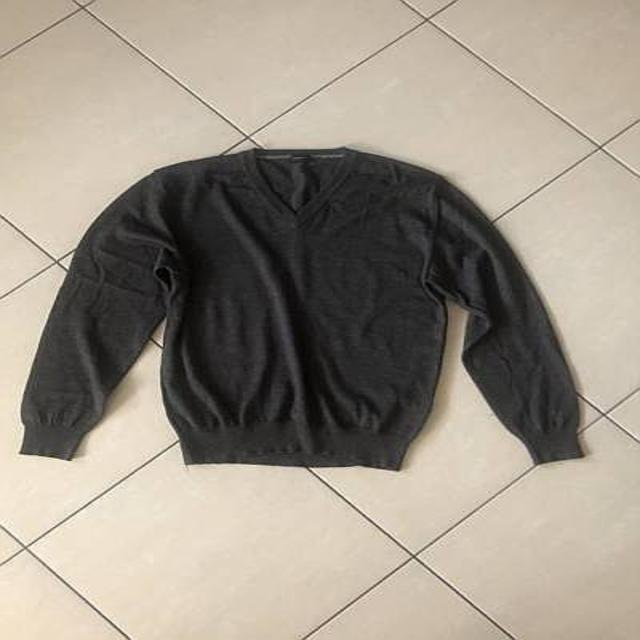SHIRT: (7, 134, 610, 484)
